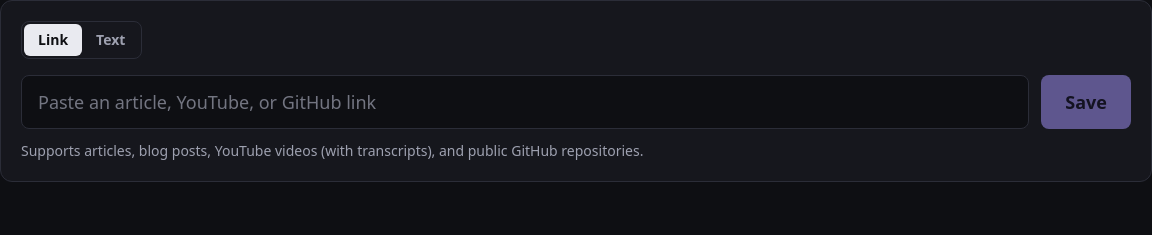
Test: saving a link › shows the reason when the server refuses the link, and keeps what was typed
In the field named "Link to save": x=525, y=102 [21,75,1029,129], type "http://127.0.0.1/admin"
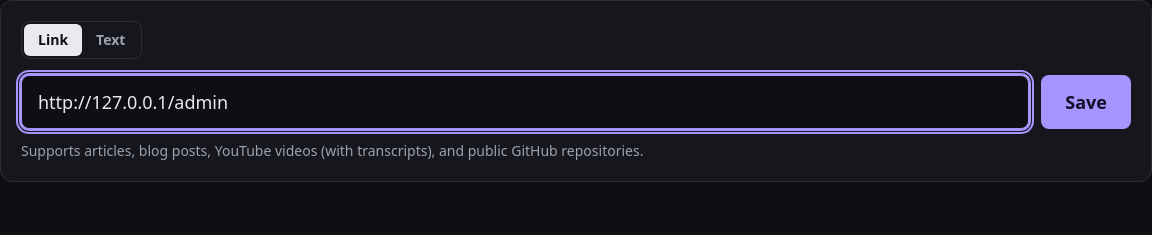
Click the button "Save": x=1086, y=102 [1041,75,1131,129]
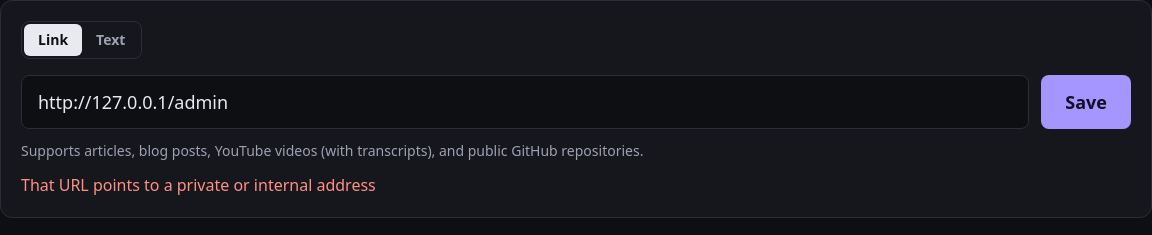
Result: the message shows "private or internal address" at [21,174,376,196]
